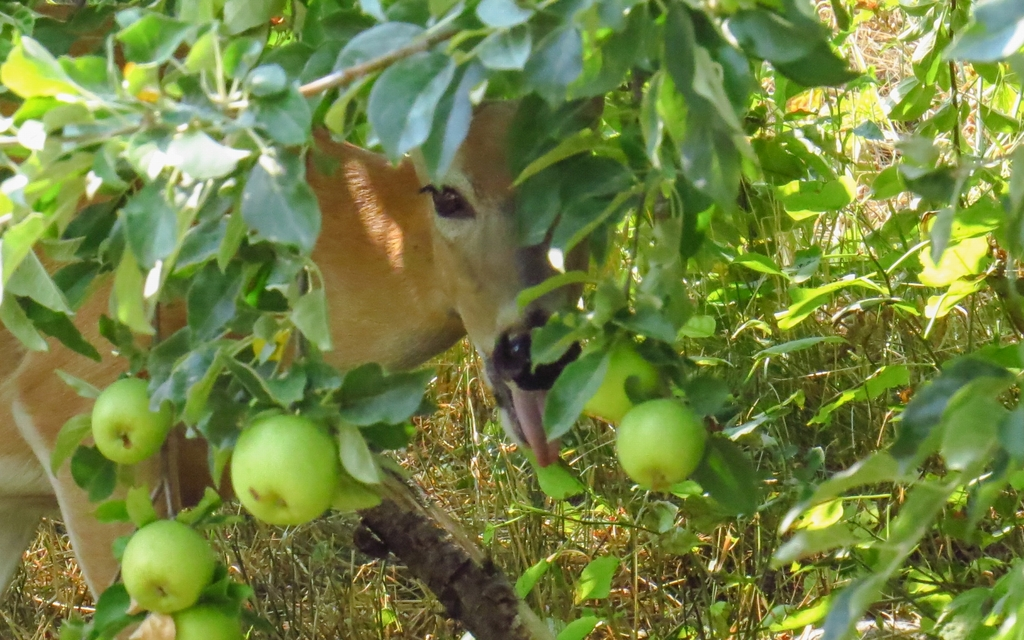Apple: (229, 412, 346, 529), (620, 393, 718, 490), (119, 520, 216, 613), (577, 335, 664, 430), (91, 381, 175, 465), (174, 599, 242, 639)
